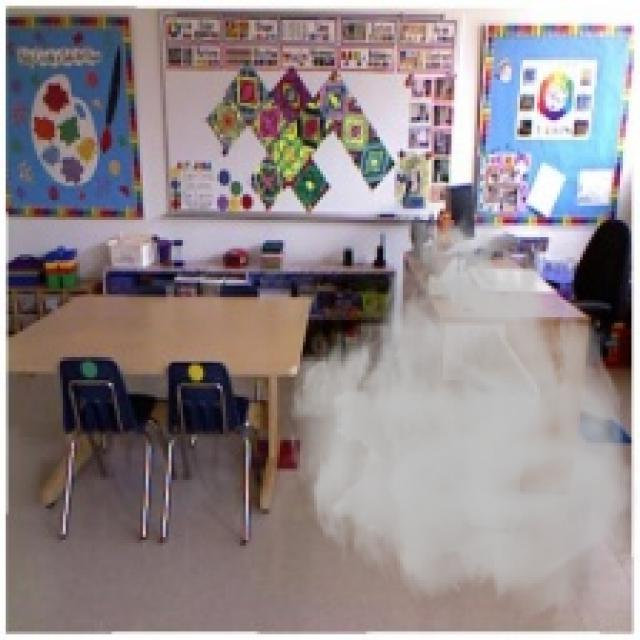smoke: (286, 194, 637, 623)
